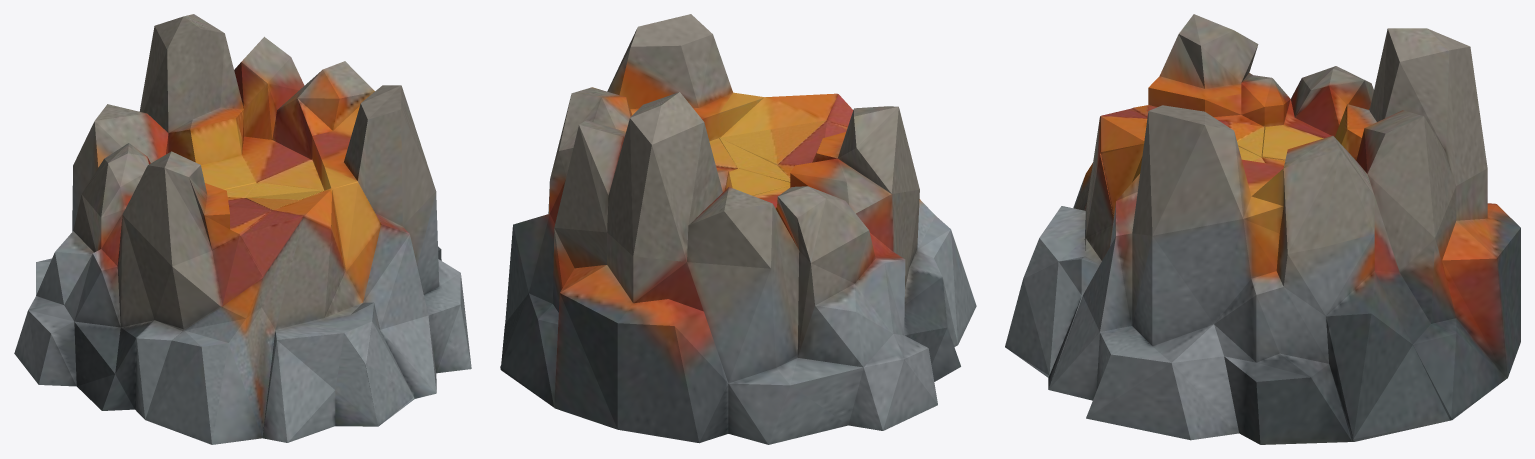
The model's file is rock_lava.glb.
3 views of the same model, side by side, from view 1: azimuth 30°, elevation 25°; view 2: azimuth 150°, elevation 25°; view 3: azimuth 270°, elevation 25° (orthographic). The views are drawn at different scales.
Parts seen in each view (by area): view 1: tripo_node_b67649c4-557d-433d-a702-0b8248fbfa44; view 2: tripo_node_b67649c4-557d-433d-a702-0b8248fbfa44; view 3: tripo_node_b67649c4-557d-433d-a702-0b8248fbfa44.
Boxes of the visible parts, x1,y1,x2,y2 form: tripo_node_b67649c4-557d-433d-a702-0b8248fbfa44: (14,14,471,444); tripo_node_b67649c4-557d-433d-a702-0b8248fbfa44: (500,14,976,444); tripo_node_b67649c4-557d-433d-a702-0b8248fbfa44: (1005,14,1520,444).
Bounding box in the file's own units: 0.9863 × 0.6699 × 0.998.
1 material, 1 textured.
